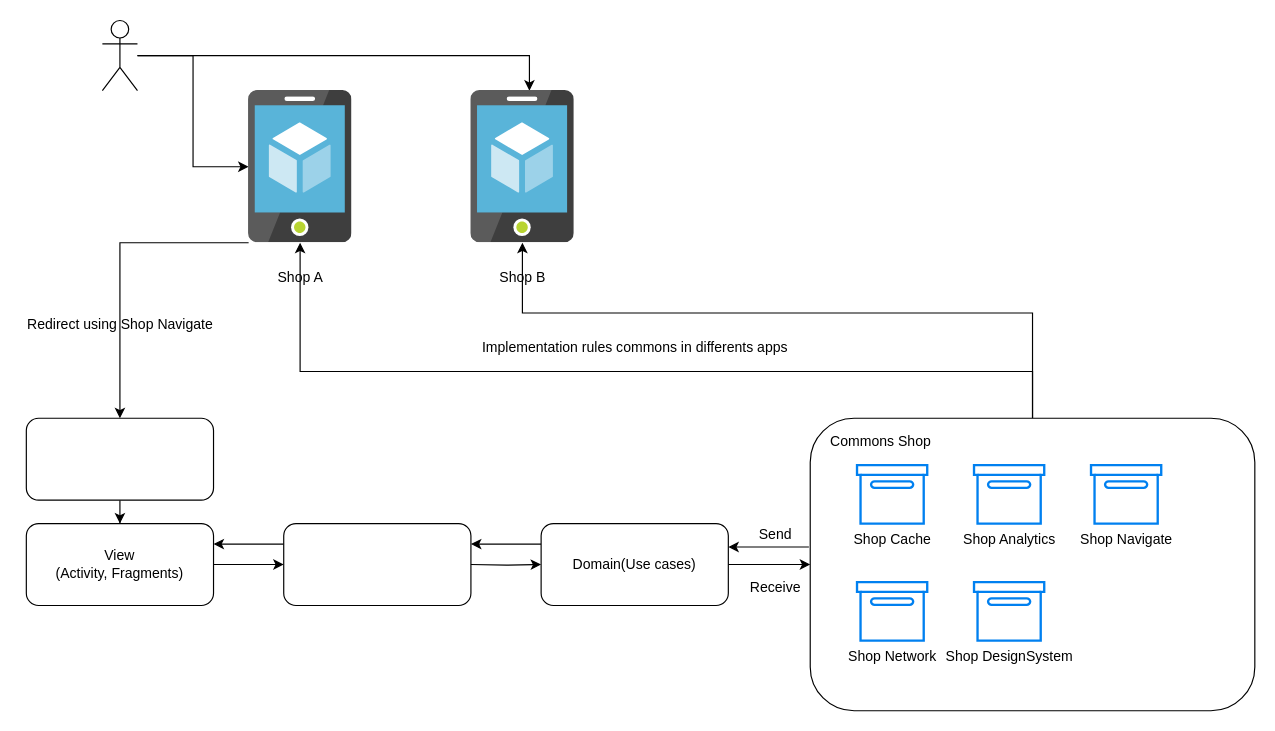
Image size: 1275x731. Some labels were removed from this diagram. Here are the shapes that lost their labels. From the top down, the centre of each, then its label:
At (x=119, y=55): "User".
At (x=119, y=458): "Features".
At (x=377, y=563): "ViewModel".
